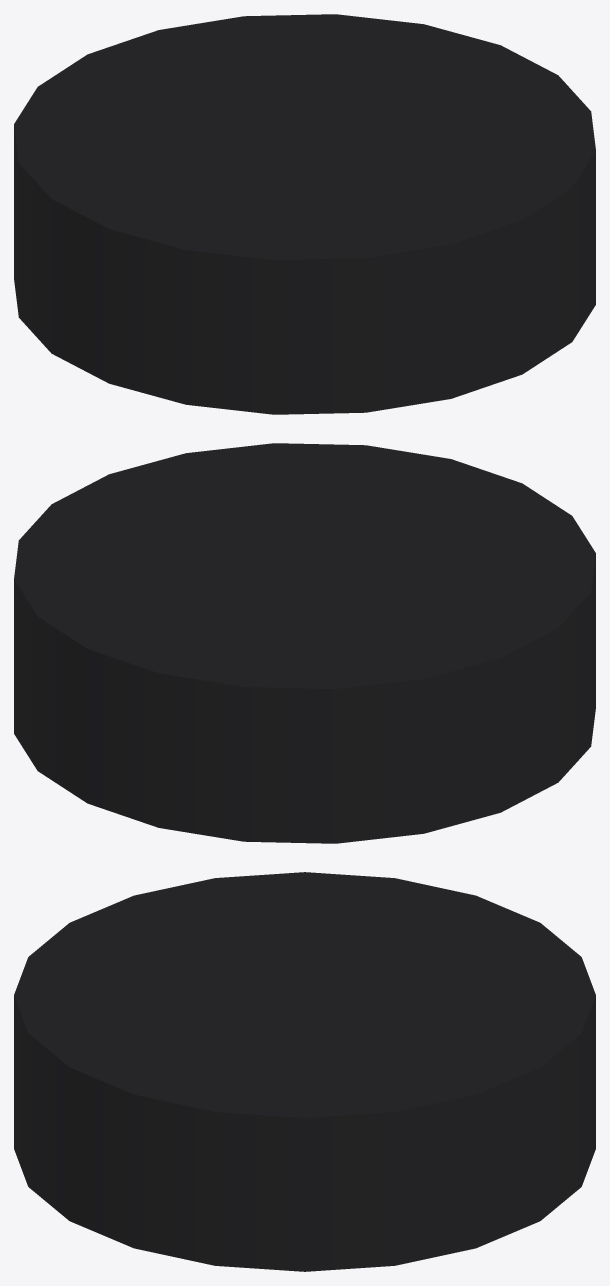
The model's file is link_rear_wheel.glb.glb.
3 renders of one model, top to bottom at view 1: azimuth 30°, elevation 25°; view 2: azimuth 150°, elevation 25°; view 3: azimuth 270°, elevation 25°, orthographic.
Visible parts, largest first — view 1: link_base.3obj.004; view 2: link_base.3obj.004; view 3: link_base.3obj.004.
Boxes of the visible parts, left/top/right/bottom form: link_base.3obj.004: left=14, top=14, right=595, bottom=414; link_base.3obj.004: left=14, top=443, right=595, bottom=843; link_base.3obj.004: left=14, top=872, right=595, bottom=1271.
Size of the model in its own units: 0.0762 by 0.0222 by 0.0762.
1 material, 1 textured.
